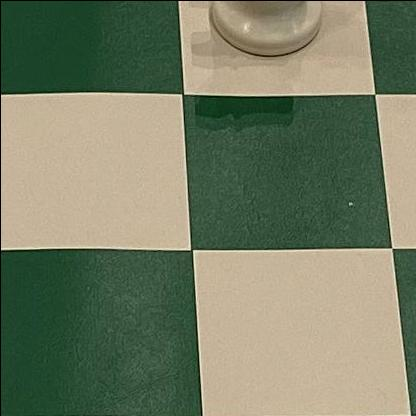white-knight: (205, 0, 334, 60)
